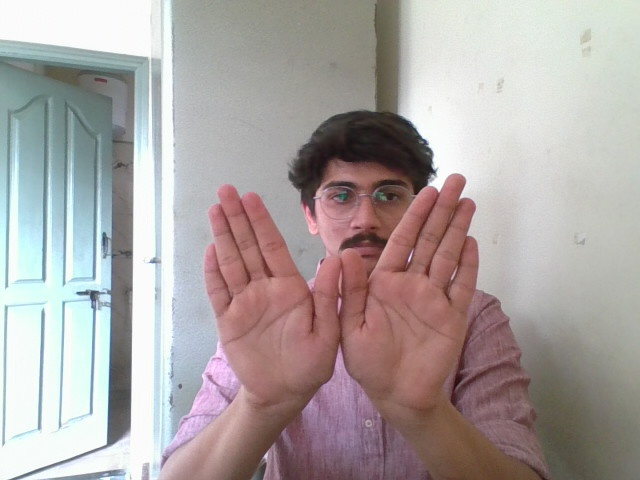hug: (197, 172, 505, 412)
